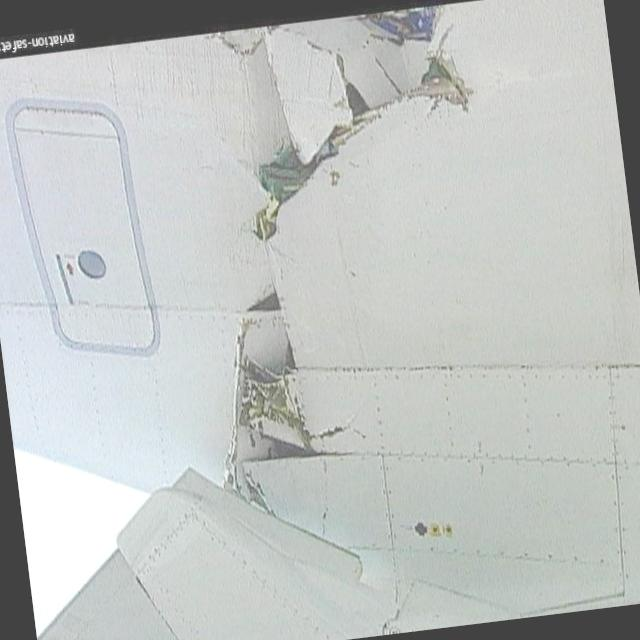crack: (209, 18, 491, 250)
